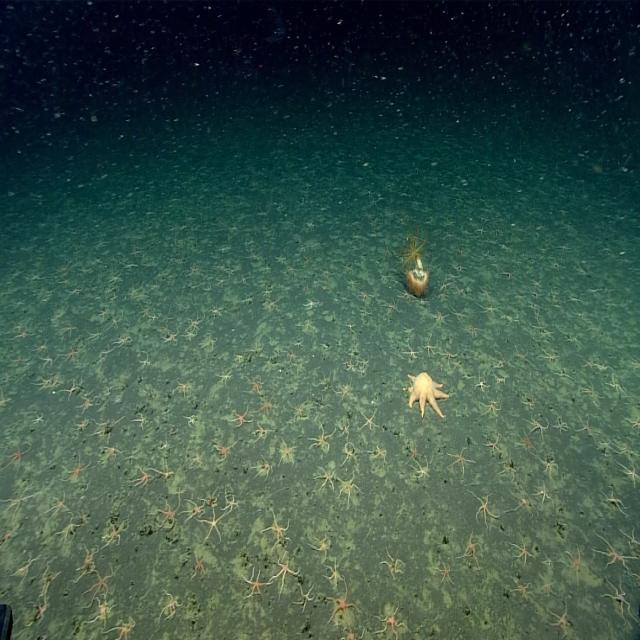brittle-stars: (594, 531, 632, 572), (0, 480, 37, 517), (603, 578, 633, 622), (328, 584, 358, 624), (376, 604, 404, 638), (272, 557, 298, 593), (87, 569, 115, 602), (473, 490, 497, 525), (2, 441, 30, 471), (156, 498, 181, 530), (548, 604, 573, 635), (266, 512, 290, 544), (64, 454, 90, 483), (564, 547, 586, 579), (602, 486, 626, 515), (204, 509, 225, 542), (160, 590, 182, 621), (512, 485, 534, 516), (245, 568, 268, 597), (461, 532, 481, 565), (91, 600, 116, 626), (448, 447, 472, 473), (382, 551, 404, 579), (59, 514, 81, 542), (338, 473, 359, 502), (311, 423, 333, 450), (575, 413, 596, 441), (102, 521, 123, 548), (110, 617, 134, 640), (512, 538, 533, 564), (436, 557, 455, 585), (95, 418, 119, 440), (50, 491, 70, 517), (527, 414, 548, 438), (619, 461, 640, 485), (81, 547, 99, 575), (498, 454, 518, 479), (298, 585, 317, 611), (315, 466, 335, 490), (616, 442, 640, 462), (534, 482, 553, 507), (183, 498, 204, 520), (232, 406, 252, 429), (279, 439, 296, 466), (255, 456, 274, 480), (259, 396, 278, 419), (33, 597, 49, 624), (341, 623, 366, 640), (133, 466, 154, 486), (513, 580, 533, 601), (518, 432, 536, 455), (326, 560, 343, 584), (482, 398, 502, 418), (312, 534, 330, 556), (214, 441, 232, 463), (414, 457, 431, 479), (191, 553, 205, 579), (583, 381, 601, 401), (541, 574, 557, 596), (336, 382, 354, 401), (62, 348, 82, 365), (80, 392, 97, 412), (158, 461, 175, 481), (485, 436, 501, 457), (223, 491, 238, 513), (103, 445, 121, 463), (246, 378, 264, 396), (292, 401, 306, 424), (462, 321, 480, 338), (372, 445, 388, 464), (541, 456, 557, 475), (175, 380, 192, 397), (216, 371, 233, 388), (61, 320, 78, 337), (434, 309, 450, 327), (480, 302, 498, 318), (254, 423, 270, 441), (540, 348, 558, 364), (361, 412, 376, 431), (476, 374, 490, 394), (343, 444, 357, 464), (540, 550, 554, 570), (450, 306, 467, 322), (135, 413, 151, 430), (383, 299, 399, 316), (202, 334, 217, 352), (442, 348, 460, 363), (423, 338, 437, 357), (626, 413, 640, 432), (187, 313, 203, 329), (581, 354, 596, 371), (580, 360, 595, 377), (554, 416, 568, 434), (109, 312, 122, 331), (164, 331, 180, 346), (404, 344, 420, 359), (16, 325, 32, 340), (114, 336, 131, 350), (516, 346, 530, 363), (339, 420, 352, 438), (408, 446, 422, 462), (40, 352, 54, 368), (74, 417, 88, 432), (358, 288, 373, 302), (139, 351, 150, 370), (305, 297, 321, 310), (90, 327, 104, 341), (501, 268, 515, 282), (162, 310, 175, 325), (185, 413, 198, 428), (493, 353, 505, 369), (130, 282, 142, 298), (0, 388, 8, 411), (480, 285, 493, 299), (286, 347, 298, 362), (160, 438, 171, 454), (32, 413, 45, 426), (109, 272, 122, 285), (183, 330, 196, 343), (346, 359, 358, 373), (275, 252, 287, 264), (215, 276, 227, 288), (359, 354, 369, 368), (188, 264, 198, 278)
